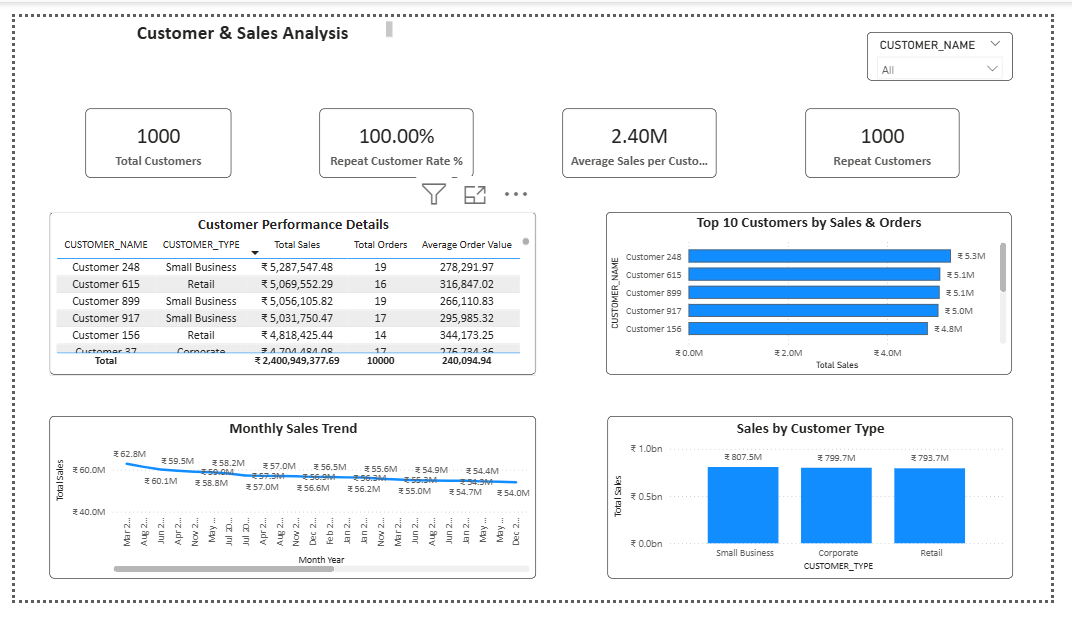

The dashboard page shown, as its layout file describes it:
{"tool":"powerbi","page":{"name":"Customer & Sales Analysis","canvas":[1280,720],"ordinal":1},"visuals":[{"type":"card","fields":{"Values":["DAX_MEASURES.Total Customers"]},"box":[86.8,113.4,180,85],"z":0},{"type":"card","fields":{"Values":["DAX_MEASURES.Average Sales per Customer"]},"box":[676.8,113.4,190,85],"z":1000},{"type":"card","fields":{"Values":["DAX_MEASURES.Repeat Customers"]},"box":[976.8,113.4,190,85],"z":2000},{"type":"card","fields":{"Values":["DAX_MEASURES.Repeat Customer Rate %"]},"box":[376.8,113.4,190,85],"z":3000},{"type":"clusteredColumnChart","title":"Sales by Customer Type","fields":{"Category":["SALES_CUSTOMERS.CUSTOMER_TYPE"],"Y":["DAX_MEASURES.Total Sales"]},"box":[731.1,492.2,500.3,200.8],"z":4000},{"type":"clusteredBarChart","title":"Top 10 Customers by Sales & Orders","fields":{"Category":["SALES_CUSTOMERS.CUSTOMER_NAME"],"Y":["DAX_MEASURES.Total Sales"]},"box":[729.9,241.5,500.3,200.8],"z":5000},{"type":"tableEx","title":"Customer Performance Details","fields":{"Values":["SALES_CUSTOMERS.CUSTOMER_NAME","SALES_CUSTOMERS.CUSTOMER_TYPE","DAX_MEASURES.Total Sales","DAX_MEASURES.Total Orders","DAX_MEASURES.Average Order Value"]},"box":[41.8,241.5,600.7,200.8],"z":6000},{"type":"slicer","fields":{"Values":["SALES_CUSTOMERS.CUSTOMER_NAME"]},"box":[1052.5,19.4,179.7,59.9],"z":7000},{"type":"lineChart","title":"Monthly Sales Trend","fields":{"Category":["Calendar.Month Year"],"Y":["DAX_MEASURES.Total Sales"]},"box":[43,492.2,600.7,200.8],"z":8000},{"type":"textbox","box":[100.4,0,370.8,34],"z":9000}]}

Visuals, with their boxes in screenshot pixels (x1, y1, x2, y2), scaled from the page's 1280x720 canvas onto the 1072x619 screenshot:
card - DAX_MEASURES.Total Customers: crop(73, 97, 223, 171)
card - DAX_MEASURES.Average Sales per Customer: crop(567, 97, 726, 171)
card - DAX_MEASURES.Repeat Customers: crop(818, 97, 977, 171)
card - DAX_MEASURES.Repeat Customer Rate %: crop(316, 97, 475, 171)
"Sales by Customer Type" clusteredColumnChart: crop(612, 423, 1031, 596)
"Top 10 Customers by Sales & Orders" clusteredBarChart: crop(611, 208, 1030, 380)
"Customer Performance Details" tableEx: crop(35, 208, 538, 380)
slicer - SALES_CUSTOMERS.CUSTOMER_NAME: crop(881, 17, 1032, 68)
"Monthly Sales Trend" lineChart: crop(36, 423, 539, 596)
textbox: crop(84, 0, 395, 29)
